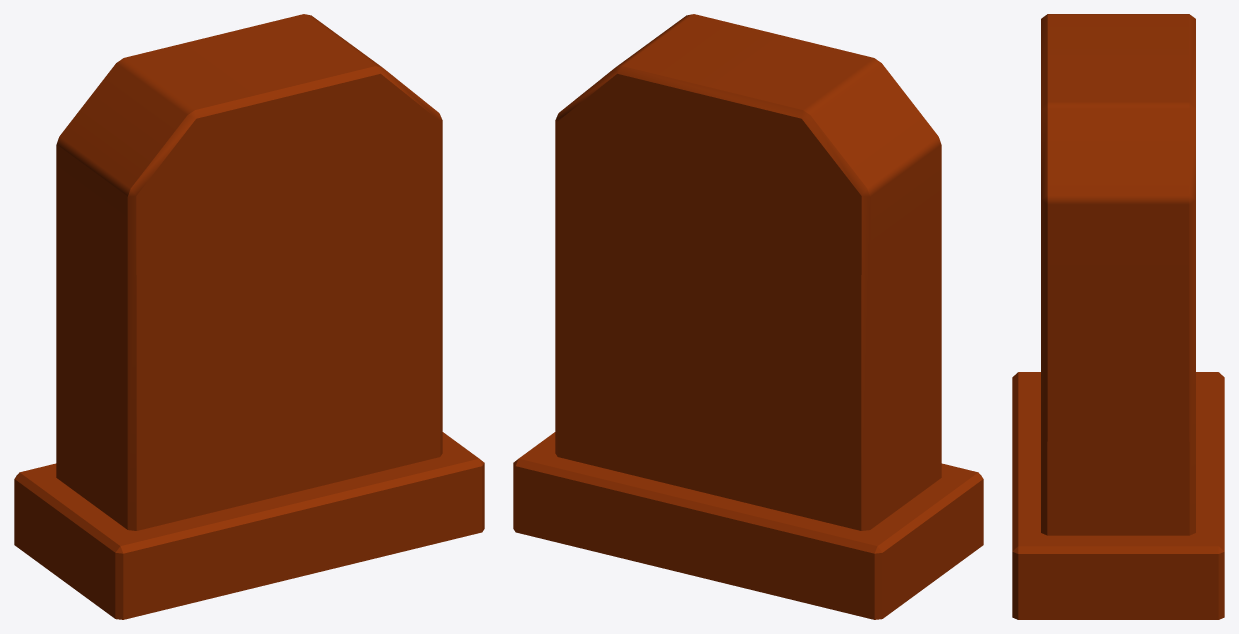
Rendered from Tomb_03.fbx.
3 views of the same model, side by side, from view 1: azimuth 30°, elevation 25°; view 2: azimuth 150°, elevation 25°; view 3: azimuth 270°, elevation 25° (orthographic).
Visible parts, largest first — view 1: Tomb_03; view 2: Tomb_03; view 3: Tomb_03.
Boxes of the visible parts, x1=… form: Tomb_03: x1=14, y1=14, x2=484, y2=619; Tomb_03: x1=513, y1=14, x2=983, y2=619; Tomb_03: x1=1012, y1=14, x2=1224, y2=619.
Bounding box in the file's own units: 0.6025 × 0.7409 × 0.3019.
